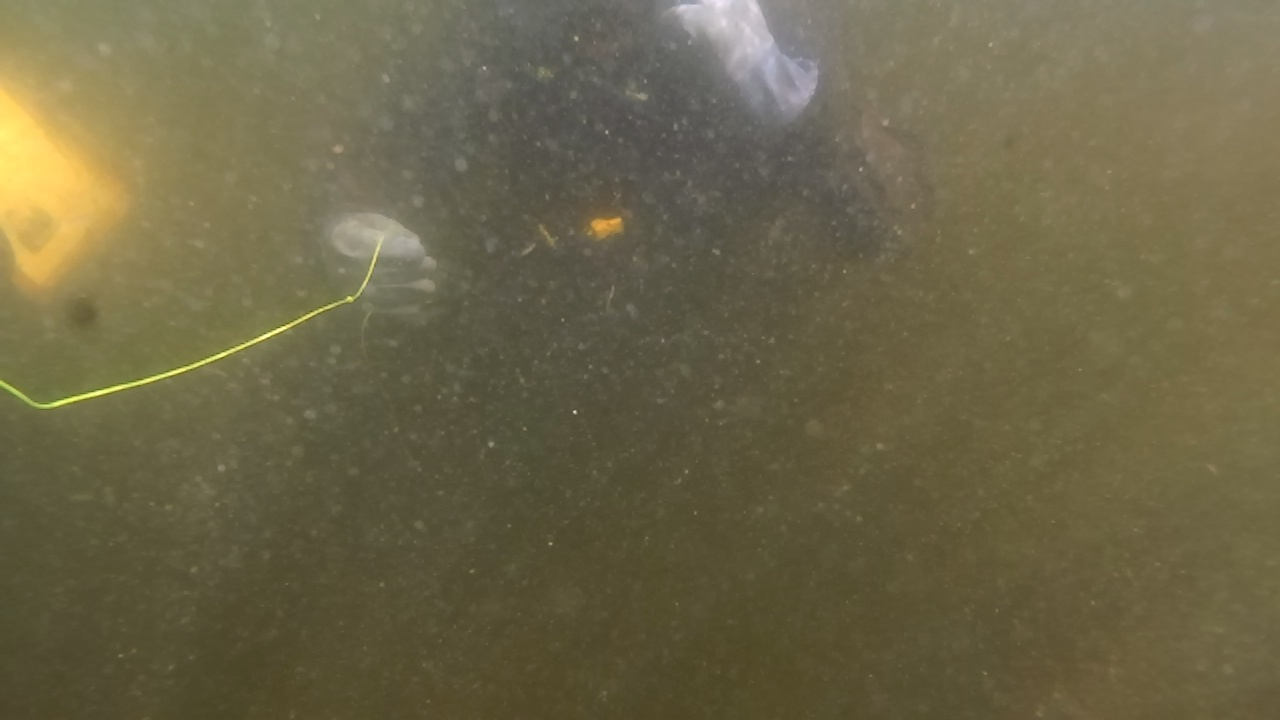Diver: (298, 8, 940, 338)
Hand: (306, 198, 466, 332)
